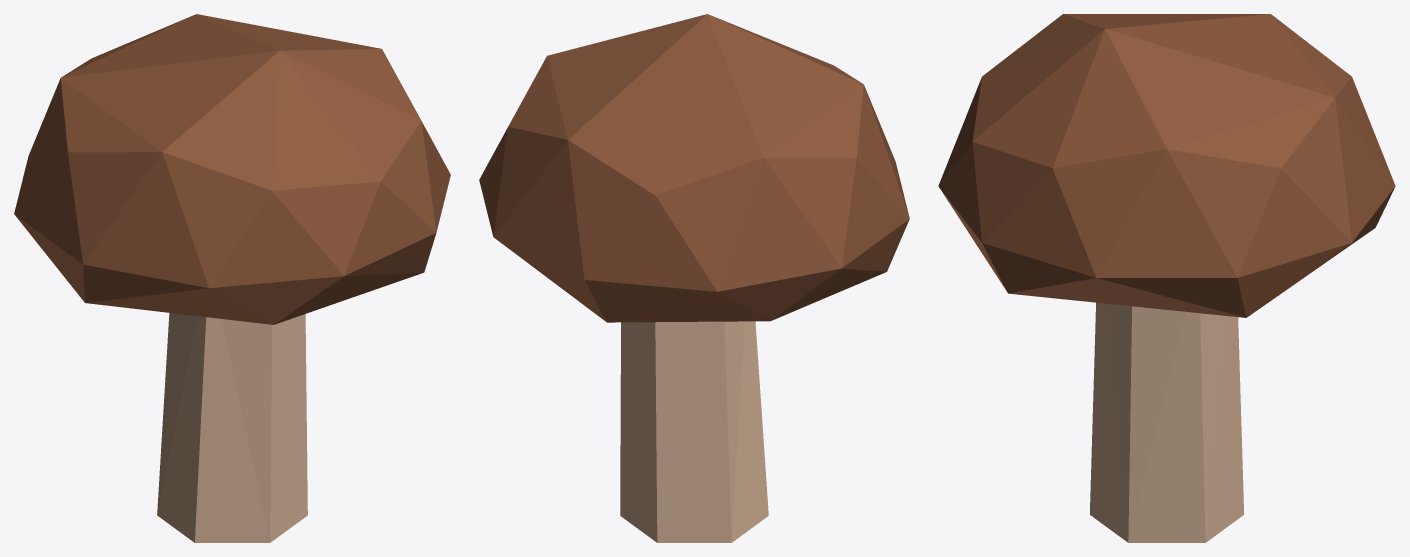
Rendered from SM_Food_Mushroom_01.fbx.
The picture shows the model from 3 angles, left to right: view 1: azimuth 30°, elevation 25°; view 2: azimuth 150°, elevation 25°; view 3: azimuth 270°, elevation 25°; orthographic projection. The views are drawn at different scales.
Visible parts, largest first — view 1: SM_Food_Mushroom_01; view 2: SM_Food_Mushroom_01; view 3: SM_Food_Mushroom_01.
Boxes of the visible parts, bbox=[...] form: SM_Food_Mushroom_01: bbox=[14, 14, 450, 542]; SM_Food_Mushroom_01: bbox=[479, 14, 909, 542]; SM_Food_Mushroom_01: bbox=[938, 14, 1395, 542].
Size of the model in its own units: 0.1251 by 0.1568 by 0.1315.
